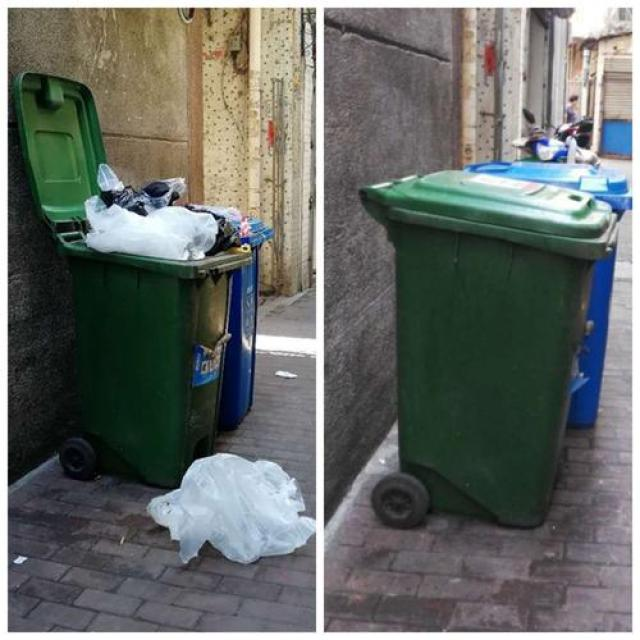garbage: (145, 452, 315, 559)
garbage_bin: (357, 168, 617, 527)
overflow: (56, 164, 251, 489)
